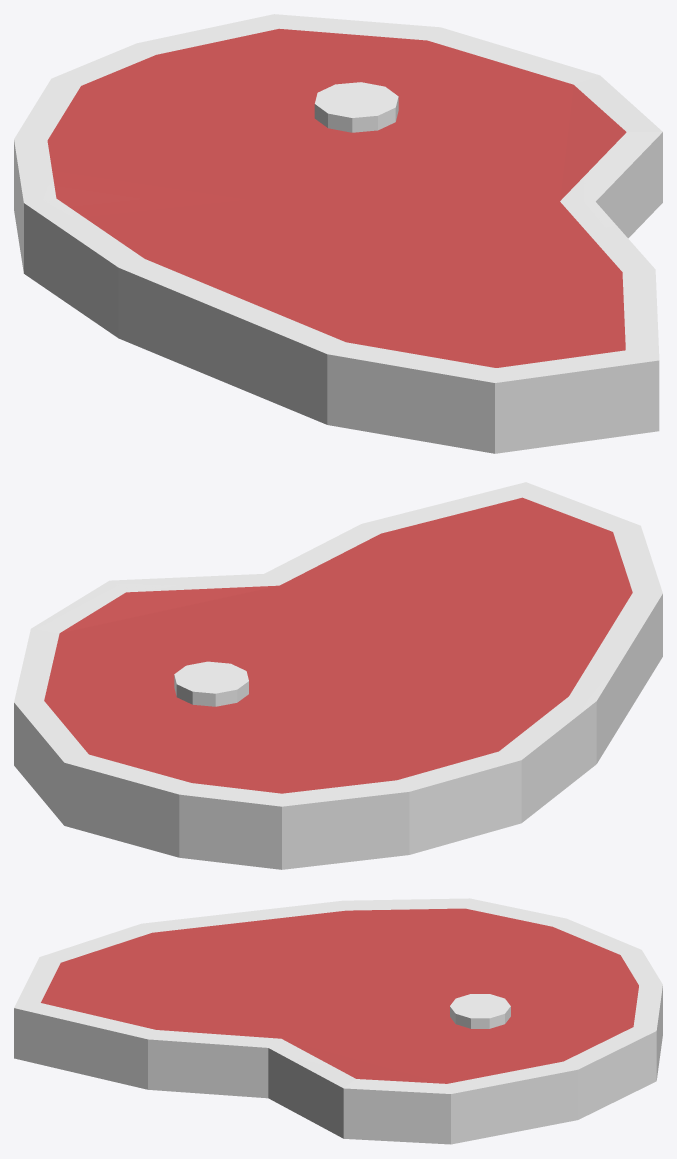
The model's file is Steak.fbx.
The picture shows the model from 3 angles, top to bottom: view 1: azimuth 30°, elevation 25°; view 2: azimuth 150°, elevation 25°; view 3: azimuth 270°, elevation 25°; orthographic projection. The views are drawn at different scales.
Visible parts, largest first — view 1: Steak; view 2: Steak; view 3: Steak.
Boxes of the visible parts, x1=… form: Steak: x1=14, y1=14, x2=662, y2=453; Steak: x1=14, y1=482, x2=662, y2=869; Steak: x1=14, y1=898, x2=662, y2=1144.
Size of the model in its own units: 31.37 by 5.4 by 43.97.
